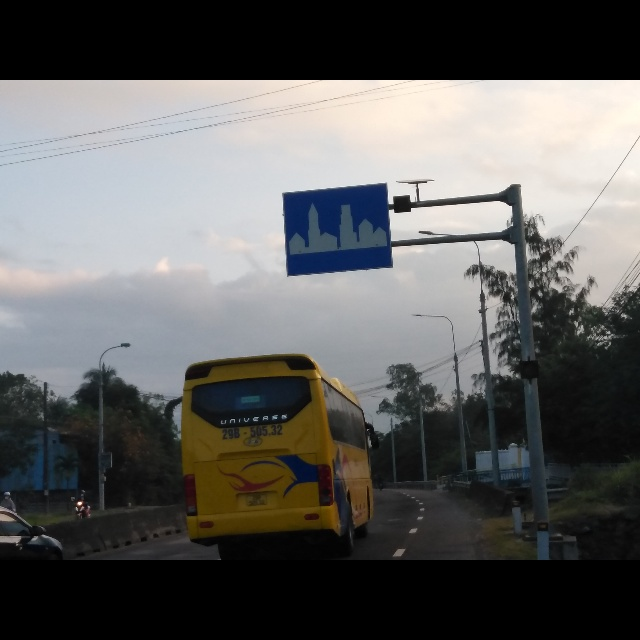Khu đông dân cư: (281, 182, 397, 282)
